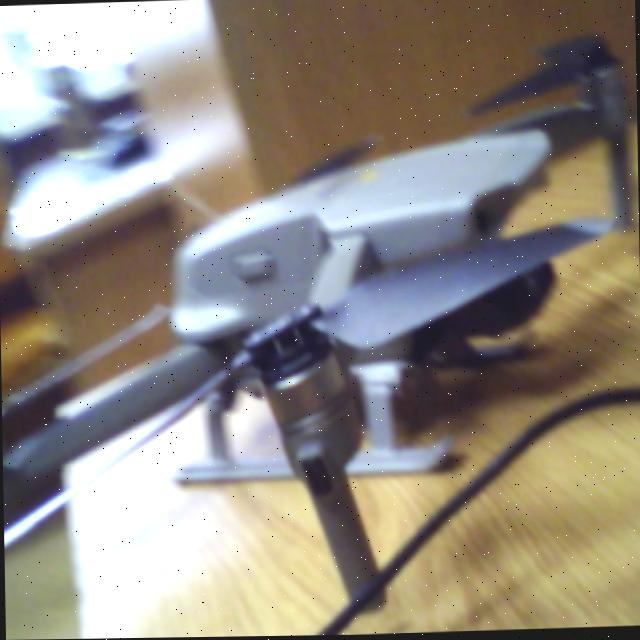drone: (0, 61, 640, 540)
